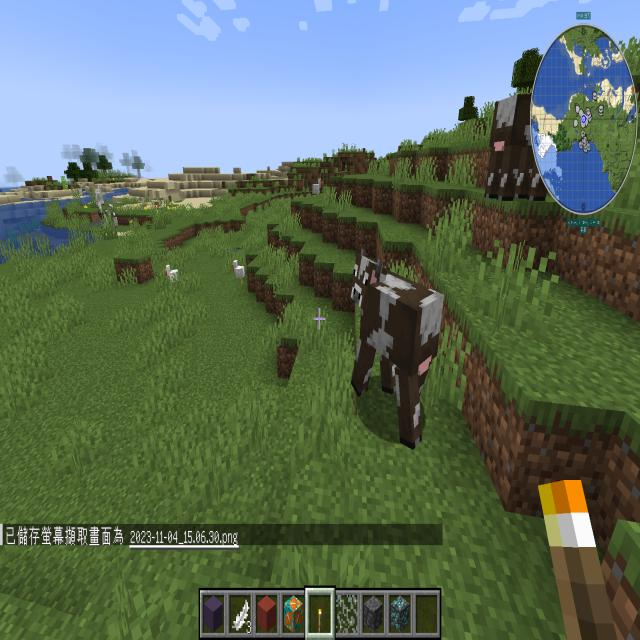chicken: (161, 258, 185, 295), (228, 255, 252, 290), (306, 168, 330, 200)
cow: (336, 228, 454, 471), (484, 85, 565, 215)
